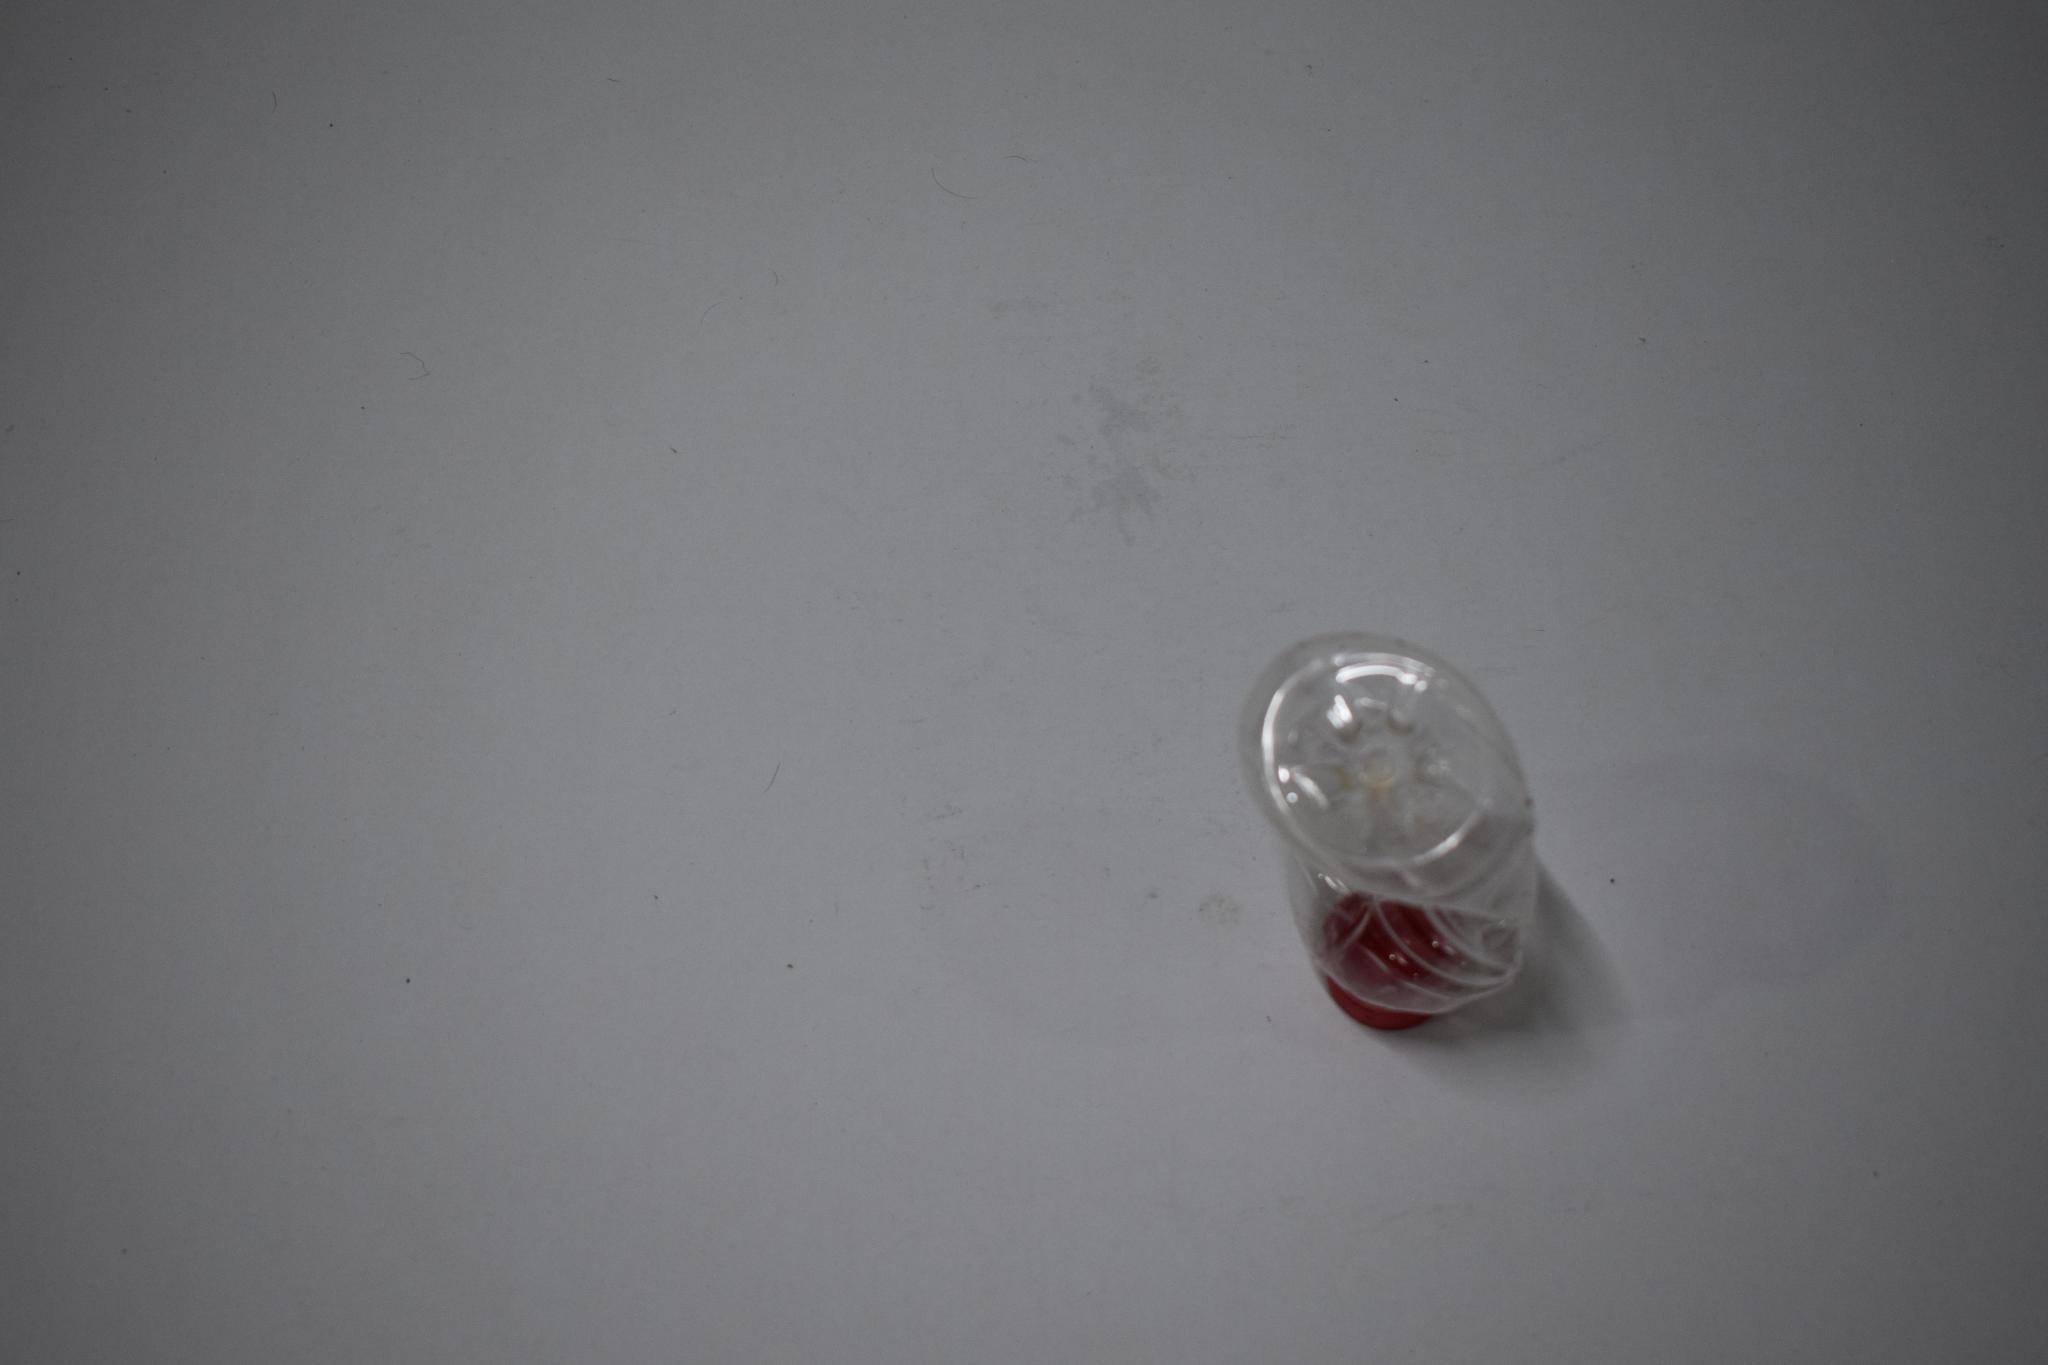bottle: (1229, 622, 1567, 1034)
